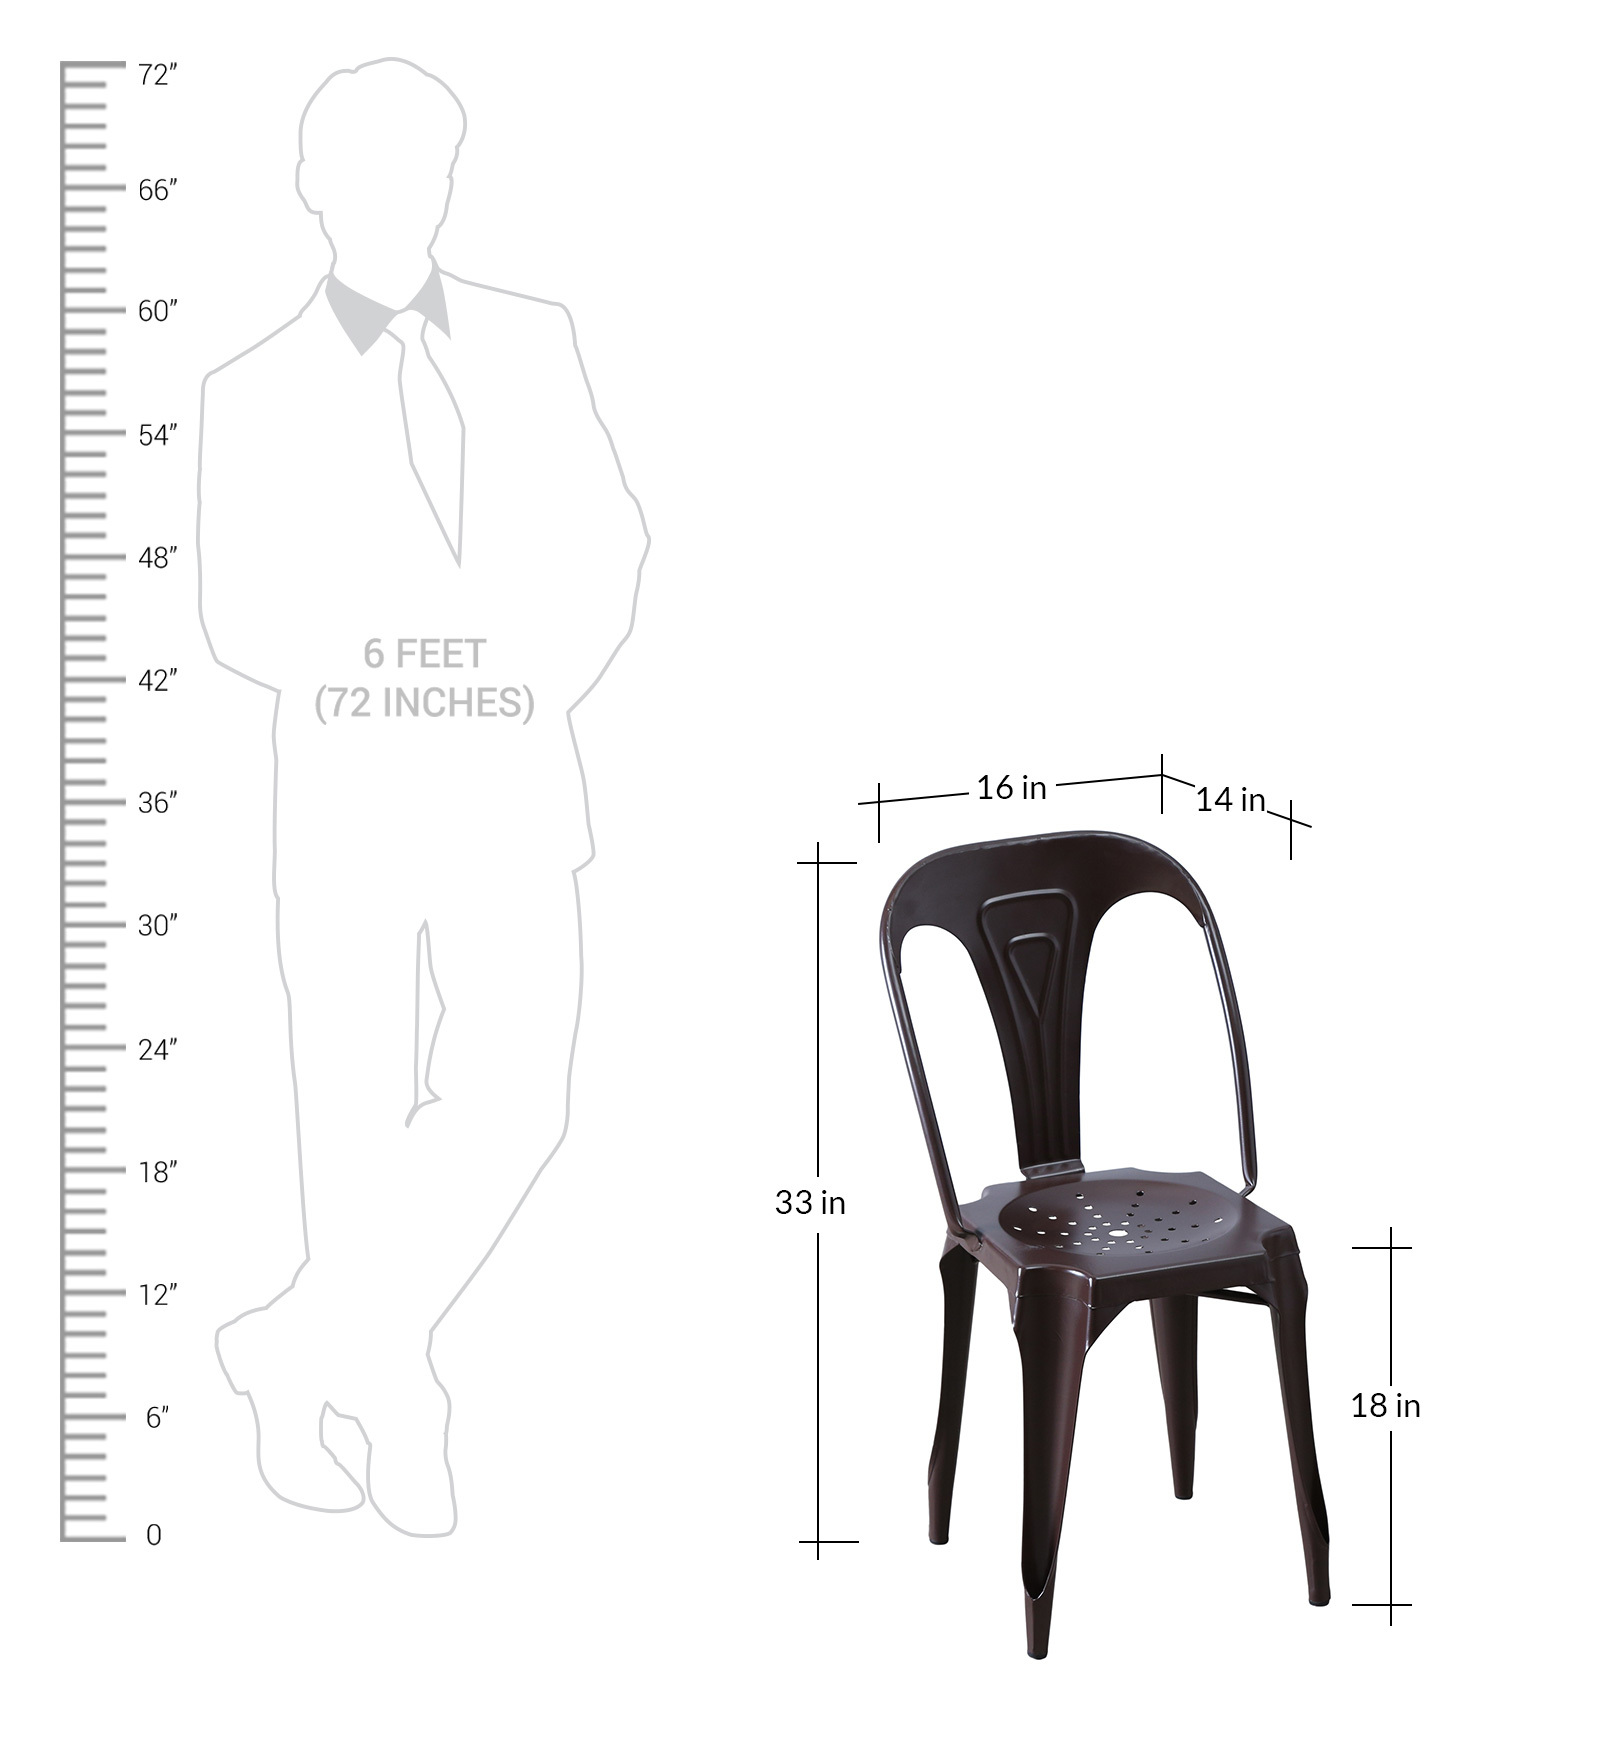Amos Metal Chair in Brown Color by Bohemiana: (860, 834, 1366, 1693)
